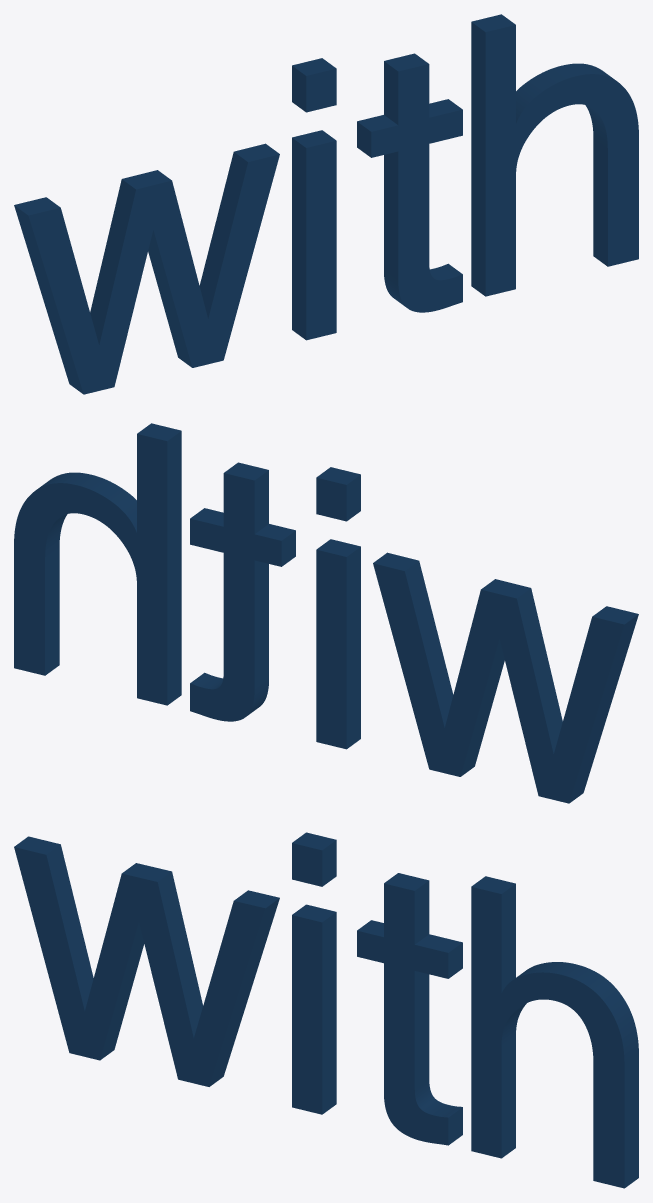
Rendered from with.glb.
3 views of the same model, one above another, from view 1: azimuth 30°, elevation 25°; view 2: azimuth 150°, elevation 25°; view 3: azimuth 330°, elevation 25° (orthographic).
Parts seen in each view (by area): view 1: mesh_0; view 2: mesh_0; view 3: mesh_0.
Boxes of the visible parts, left/top/right/bottom form: mesh_0: left=14, top=14, right=638, bottom=394; mesh_0: left=14, top=423, right=638, bottom=803; mesh_0: left=14, top=832, right=638, bottom=1188.
Bounding box in the file's own units: 2.45 × 1.02 × 0.1001.
